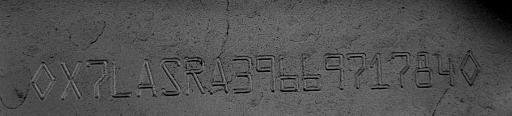letter: (56, 56, 86, 108), (133, 54, 159, 105), (84, 55, 110, 101), (109, 56, 133, 104), (252, 51, 278, 95), (228, 52, 254, 96), (183, 52, 207, 99), (157, 53, 183, 95), (276, 50, 300, 94), (412, 46, 436, 89), (322, 48, 346, 91), (366, 49, 390, 92), (299, 49, 323, 92), (208, 53, 230, 97), (435, 49, 459, 89), (345, 46, 367, 89), (391, 48, 413, 88)
